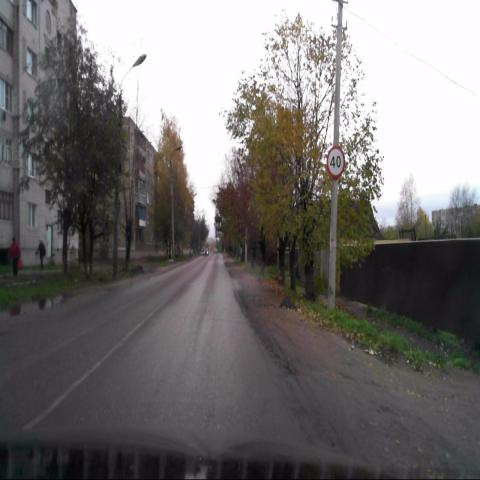3_24: (327, 145, 345, 178)
